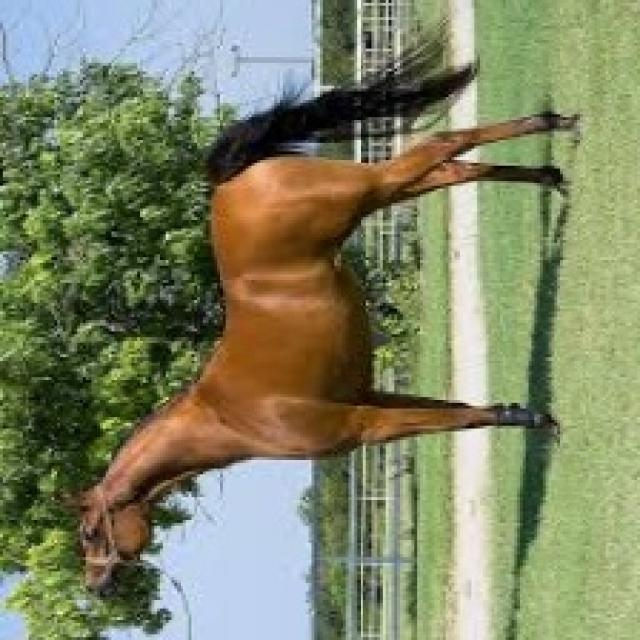animal: (59, 109, 577, 579)
